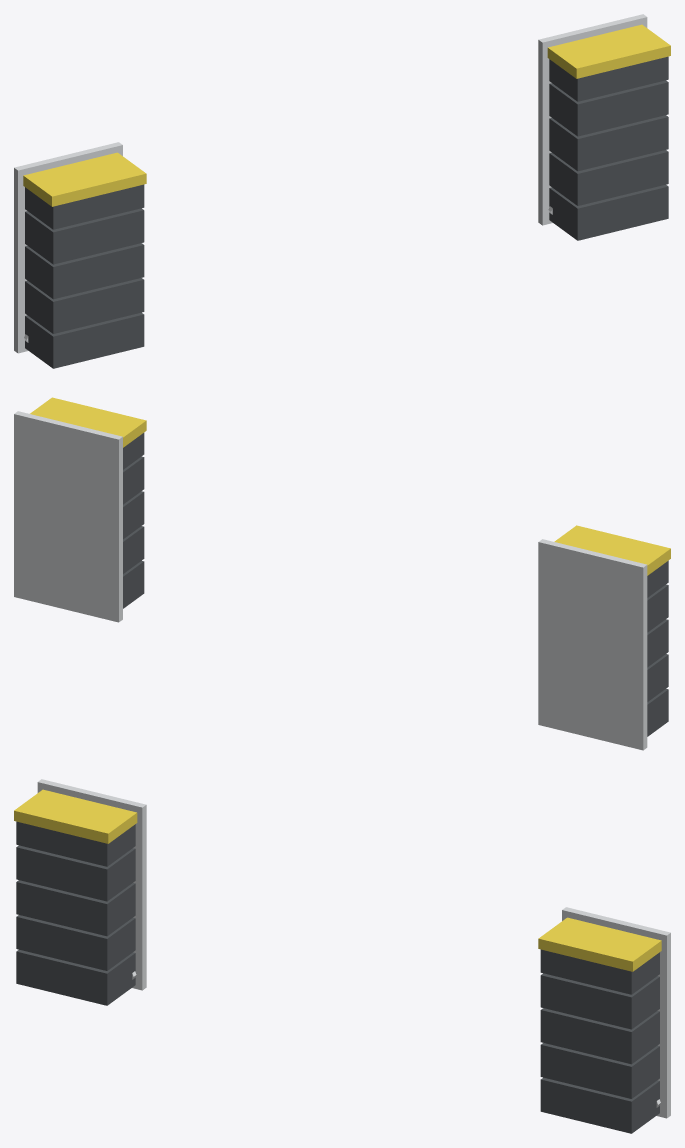
Rendered from self-storage-facility-and-loading-bay-self-storage-fac-d606feab__34712.glb.
The picture shows the model from 3 angles, top to bottom: view 1: azimuth 30°, elevation 25°; view 2: azimuth 150°, elevation 25°; view 3: azimuth 330°, elevation 25°; orthographic projection.
Parts seen in each view (by area): view 1: self-storage-facility-and-loading-bay-dock-bumper-pair; view 2: self-storage-facility-and-loading-bay-dock-bumper-pair; view 3: self-storage-facility-and-loading-bay-dock-bumper-pair.
Boxes of the visible parts, left/top/right/bottom form: self-storage-facility-and-loading-bay-dock-bumper-pair: left=14, top=14, right=670, bottom=368; self-storage-facility-and-loading-bay-dock-bumper-pair: left=14, top=397, right=670, bottom=750; self-storage-facility-and-loading-bay-dock-bumper-pair: left=14, top=779, right=670, bottom=1133.
Bounding box in the file's own units: 1.8 × 0.4999 × 0.163.
